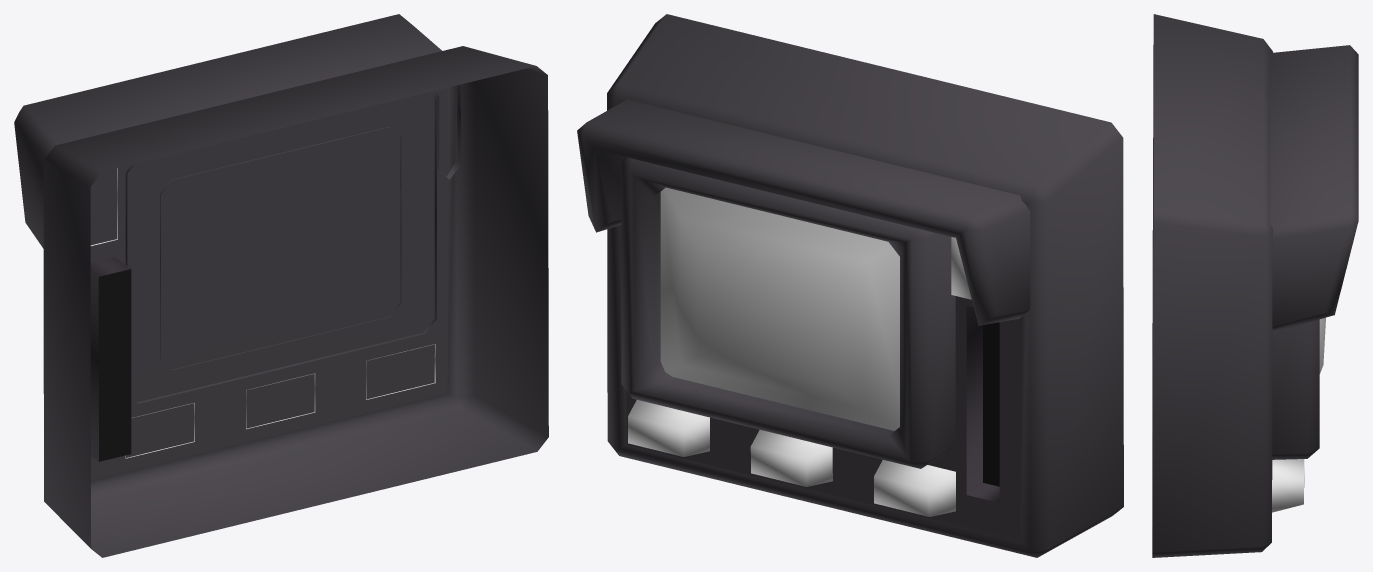
The model's file is APC.fbx.
3 views of the same model, side by side, from view 1: azimuth 30°, elevation 25°; view 2: azimuth 150°, elevation 25°; view 3: azimuth 270°, elevation 25° (orthographic). The views are drawn at different scales.
Parts seen in each view (by area): view 1: APC; view 2: APC; view 3: APC.
Boxes of the visible parts, <box> form: APC: <box>14,14,548,557</box>; APC: <box>577,14,1123,557</box>; APC: <box>1152,14,1358,557</box>.
Size of the model in its own units: 0.5012 by 0.4031 by 0.2148.
